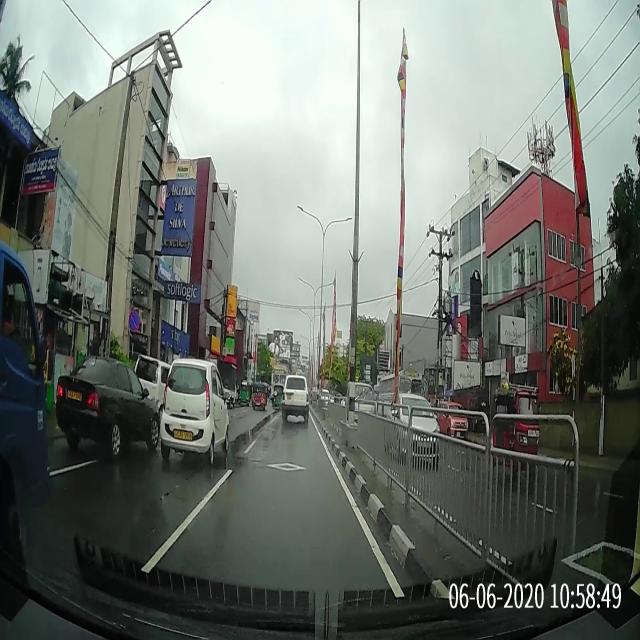diamond: (219, 443, 349, 483)
